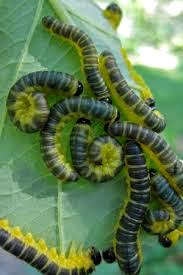Caterpillar: (40, 96, 120, 182), (0, 215, 102, 275), (100, 44, 170, 130), (42, 16, 110, 101), (2, 69, 86, 137), (103, 4, 157, 107), (111, 140, 151, 275), (108, 120, 181, 178), (68, 118, 124, 183), (140, 167, 183, 235)
